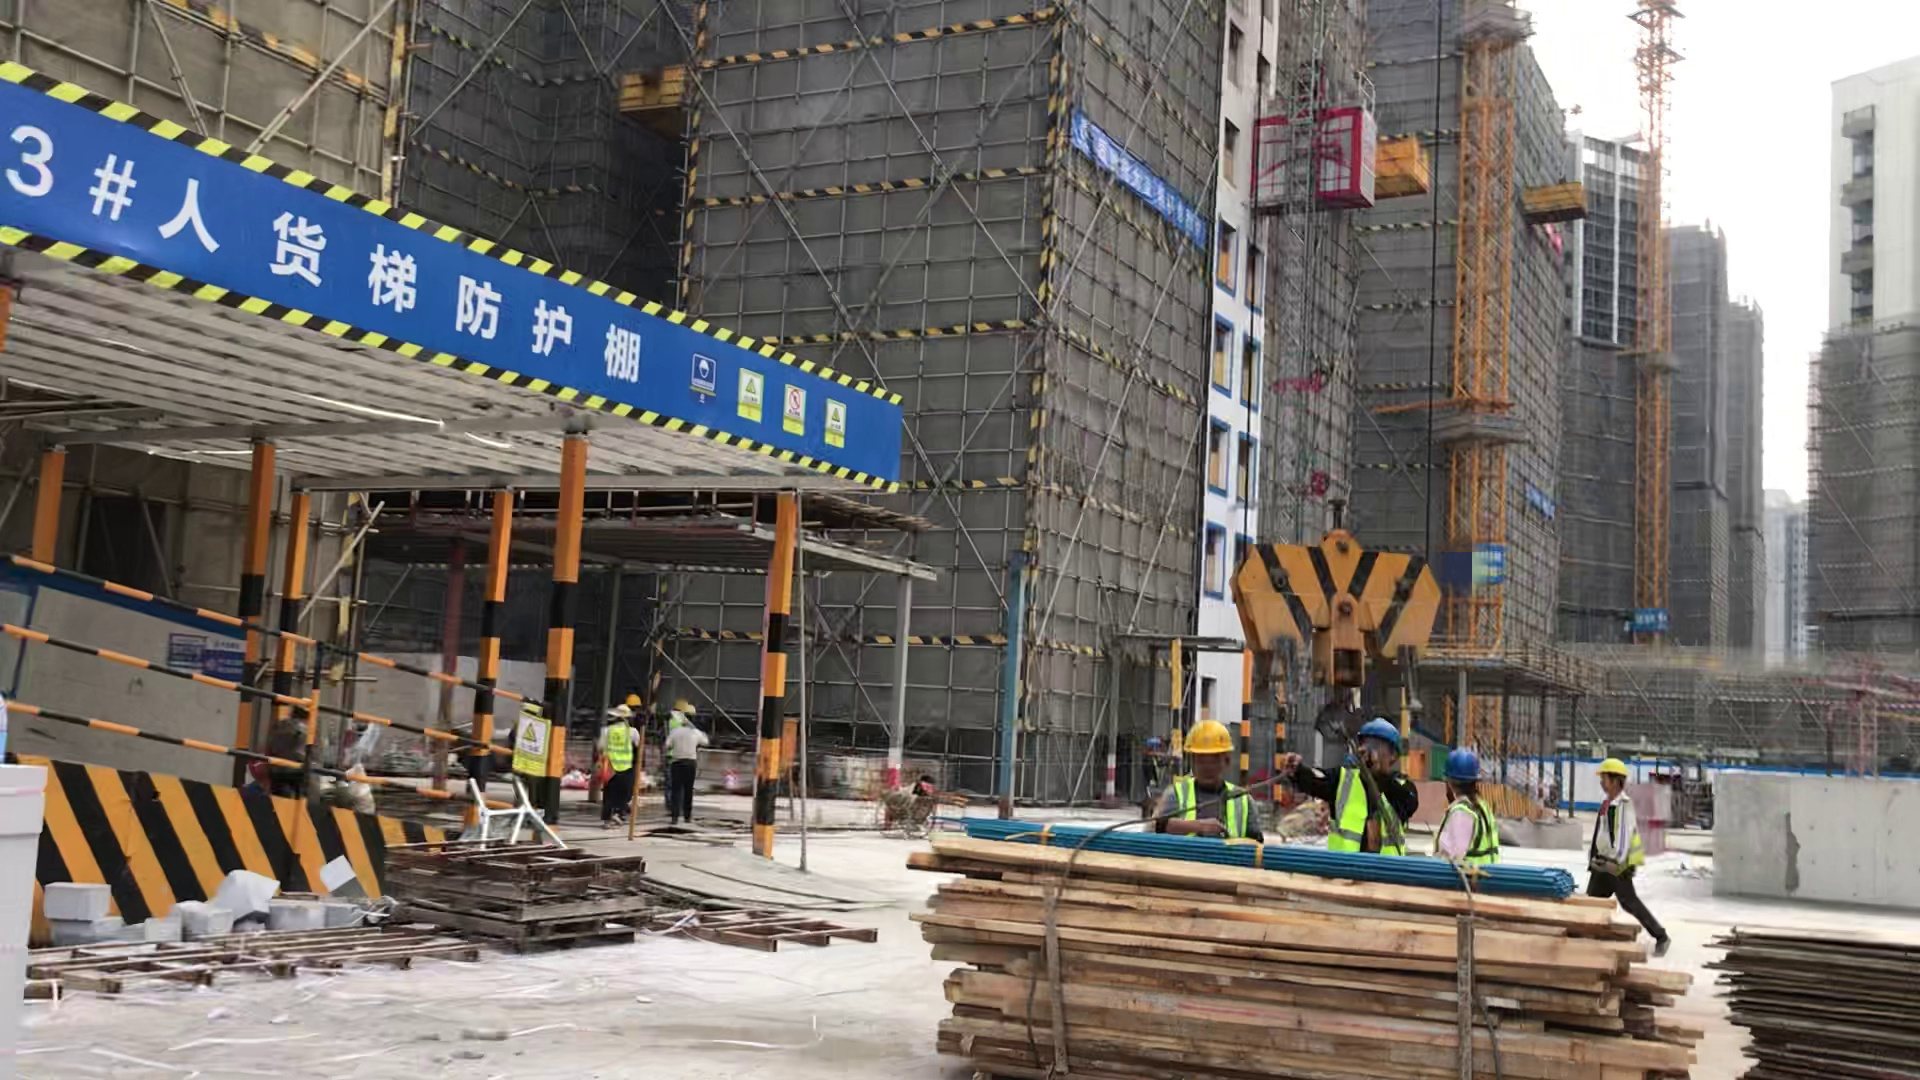board: (1711, 911, 1920, 1078)
handcart: (868, 775, 962, 842)
helmet: (1356, 716, 1408, 755), (1180, 720, 1237, 753), (1442, 748, 1485, 784), (1595, 757, 1632, 778), (671, 697, 698, 714), (613, 702, 631, 720), (626, 690, 640, 709)
hook: (1235, 500, 1440, 739)
person: (1587, 753, 1674, 953), (1298, 716, 1419, 854), (1163, 716, 1261, 839), (1431, 745, 1503, 868), (662, 693, 706, 831), (601, 697, 642, 832)
slogan: (1062, 104, 1211, 262), (679, 348, 853, 451), (506, 705, 561, 772), (1626, 611, 1672, 639)
vest: (1326, 765, 1404, 853), (1172, 775, 1251, 837), (1441, 795, 1499, 865), (1606, 794, 1644, 873), (604, 724, 637, 771)
wood: (919, 829, 1701, 1079)
